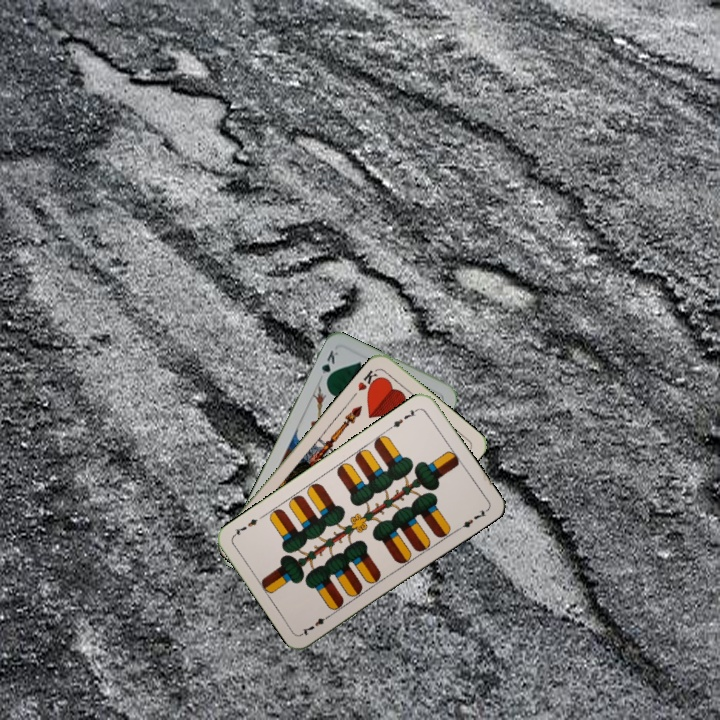E7: (385, 404, 422, 432), (298, 610, 334, 638)
GK: (317, 346, 341, 385)
HK: (354, 365, 383, 395)
